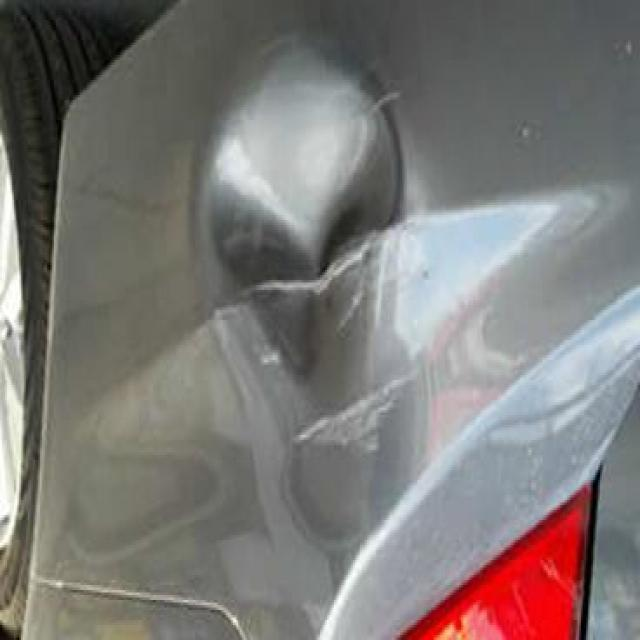dent: (177, 30, 442, 465)
